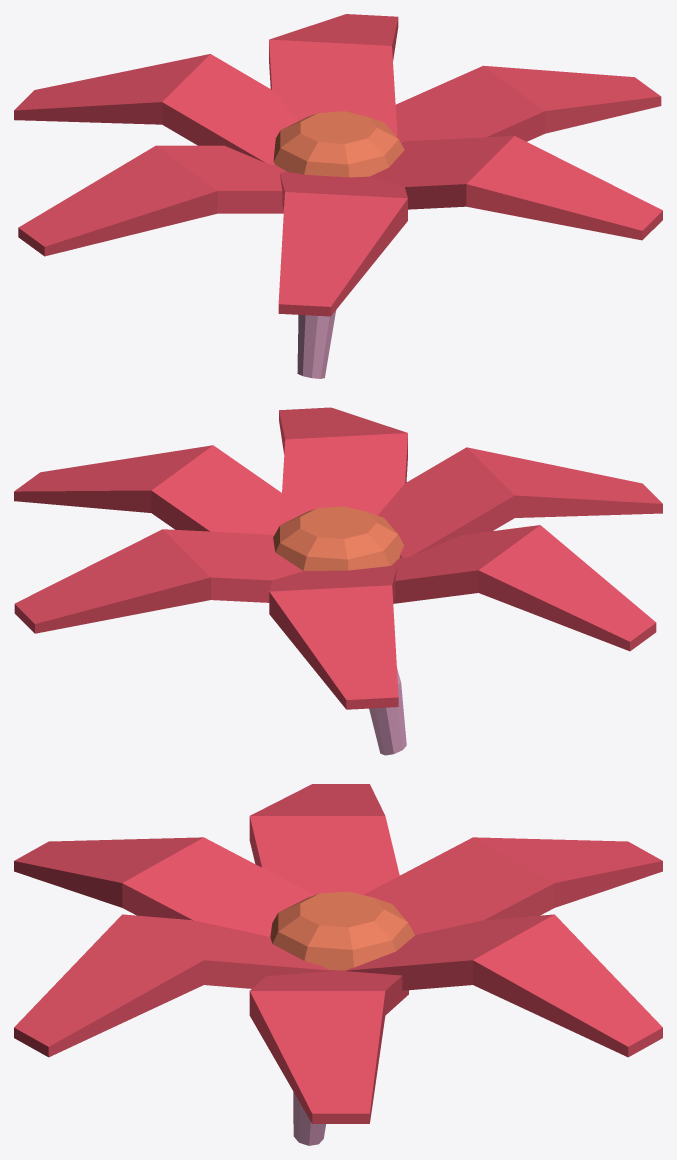
Rendered from FlowerAlien.fbx.
3 renders of one model, top to bottom at view 1: azimuth 30°, elevation 25°; view 2: azimuth 150°, elevation 25°; view 3: azimuth 270°, elevation 25°, orthographic. The views are drawn at different scales.
Parts seen in each view (by area): view 1: FlowerAlien; view 2: FlowerAlien; view 3: FlowerAlien.
Boxes of the visible parts, x1,y1,x2,y2 form: FlowerAlien: (14, 14, 662, 378); FlowerAlien: (14, 407, 662, 755); FlowerAlien: (14, 784, 662, 1145).
Size of the model in its own units: 87.56 by 32.59 by 72.87.
